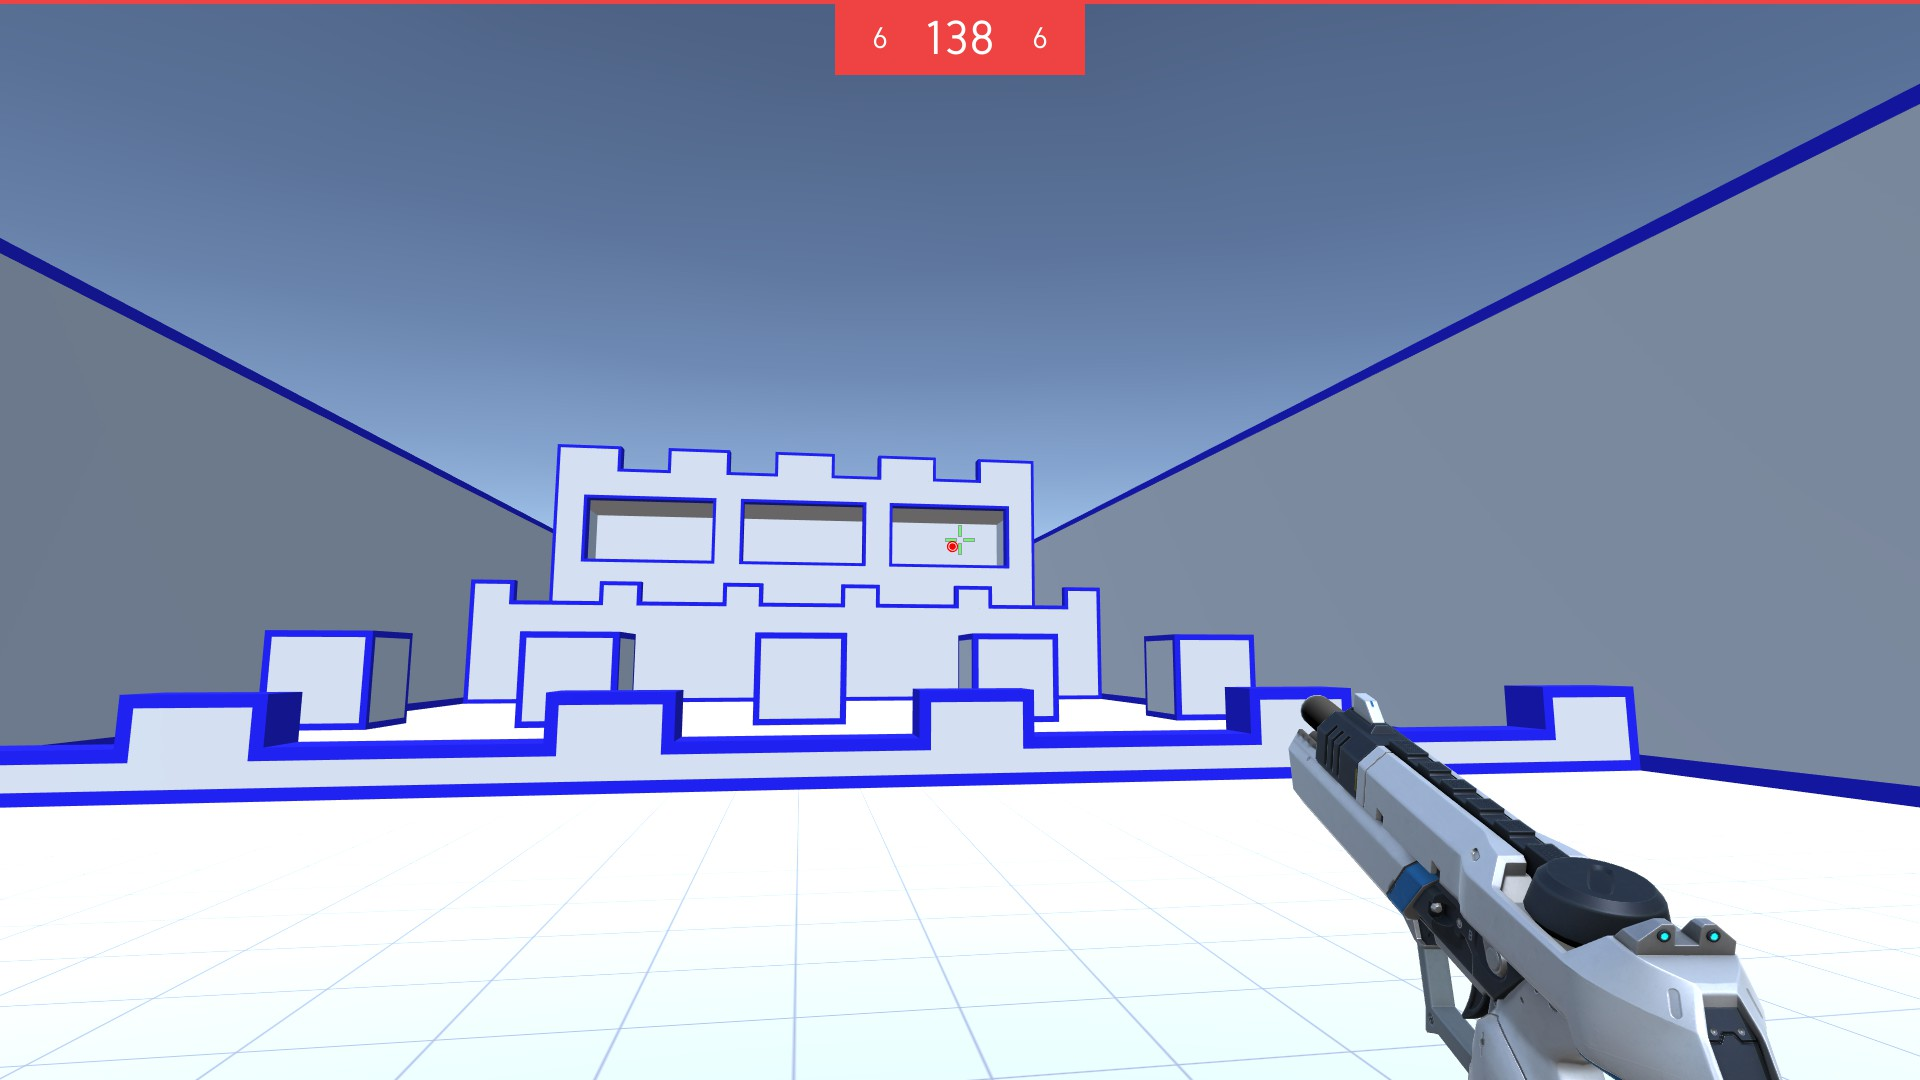target: (945, 541, 960, 554)
